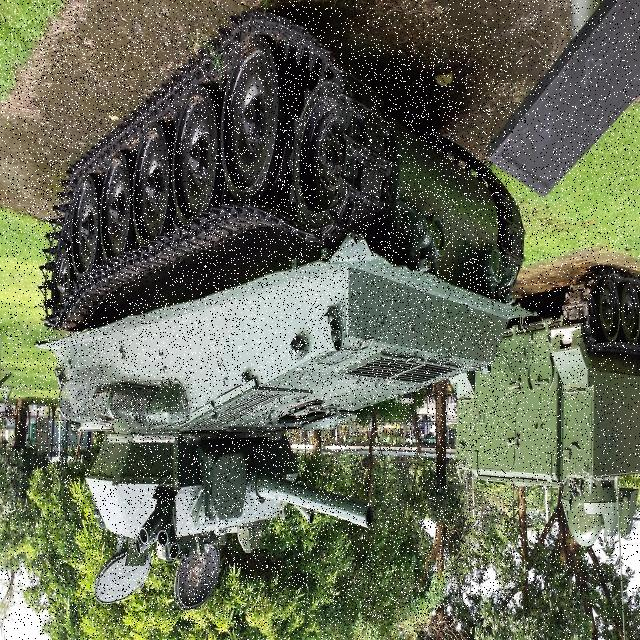MIL_MBT: (38, 38, 512, 626)
